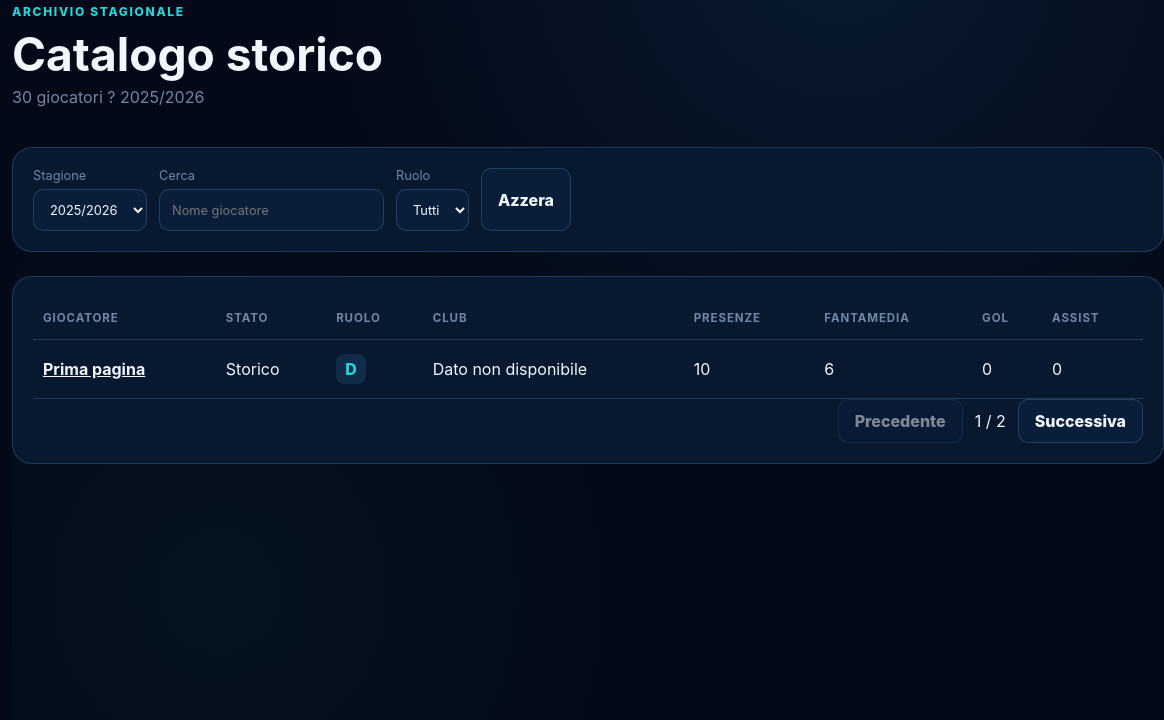
Test case: catalogo storico giocatori › propaga filtro ruolo e paginazione al contratto API
Expected: the text "Prima pagina" is shown, x1=43 y1=359 x2=145 y2=379
Select "A" in the dropdown labelled "Ruolo". click: (432, 210)
box: x1=396 y1=189 x2=469 y2=231
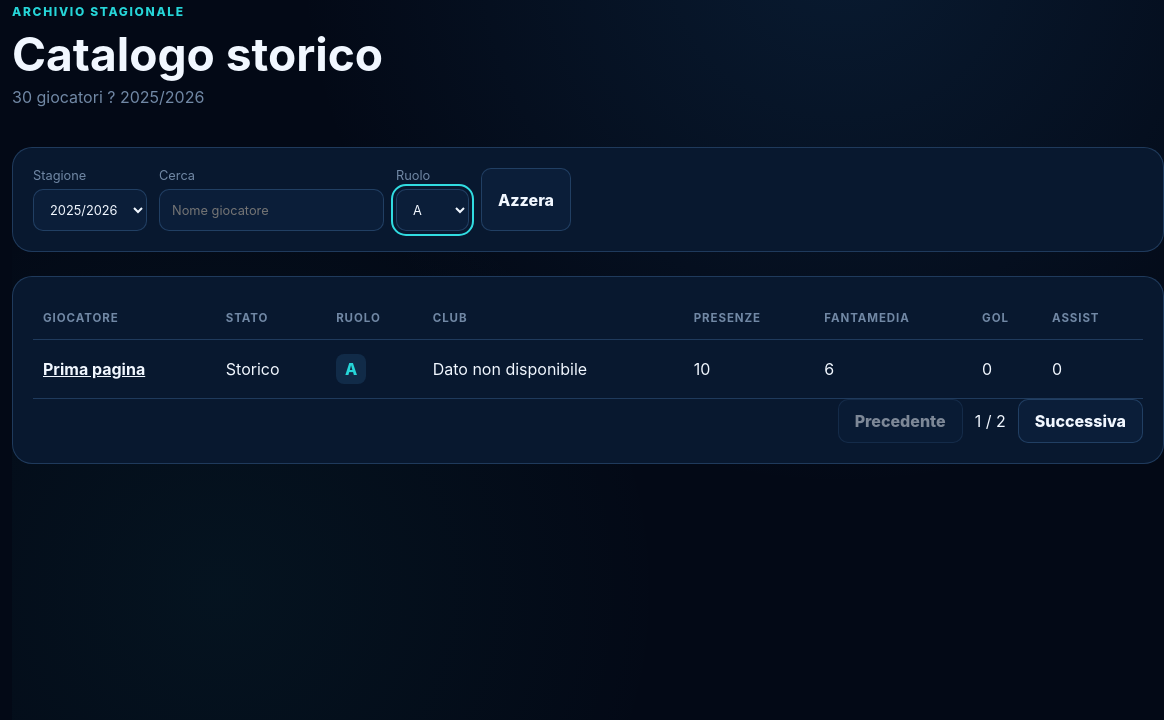
Click the button "Successiva". click: click(1080, 421)
box: x1=1018 y1=399 x2=1143 y2=443
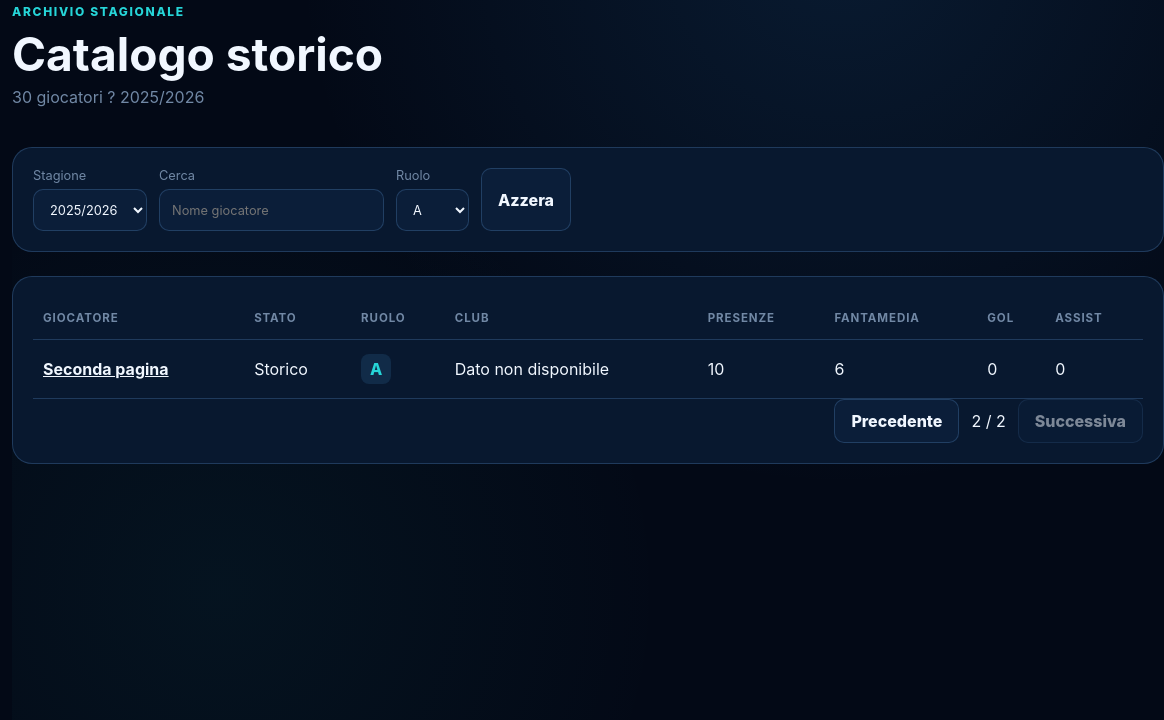
Expected: the text "Seconda pagina" is shown, x1=43 y1=359 x2=169 y2=379
Expected: the text "2 / 2" is shown, x1=971 y1=411 x2=1006 y2=431
